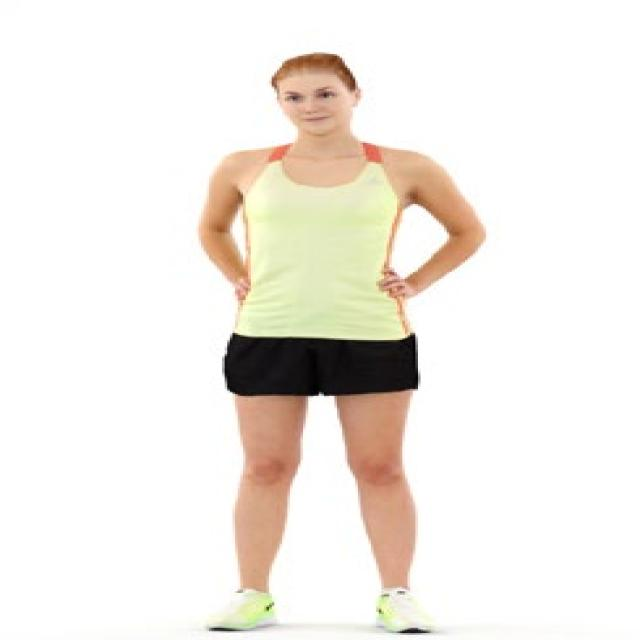standing: (191, 52, 488, 640)
